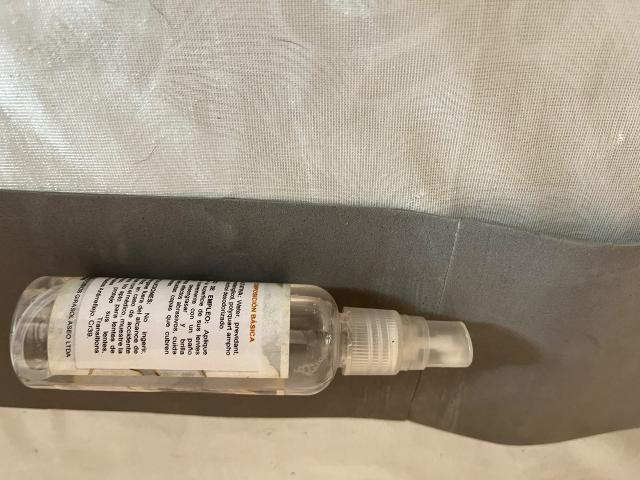PET: (0, 273, 489, 447)
